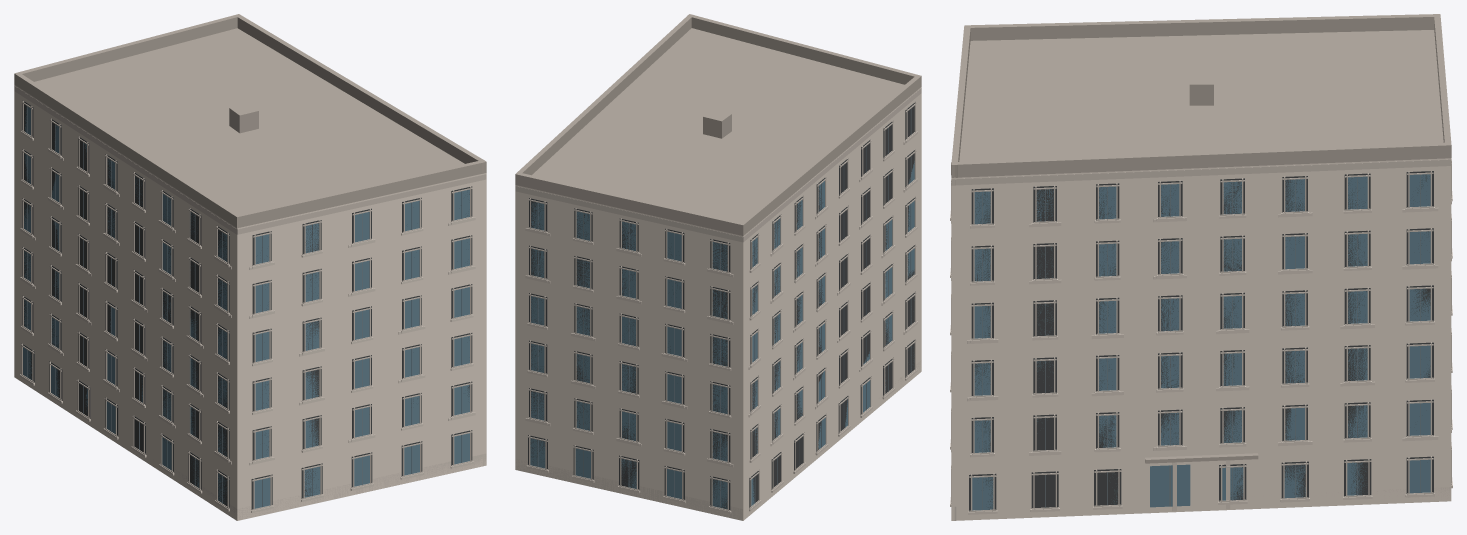
The model's file is cop_misto_loja_terrea_04__way_586695361.fbx.
3 views of the same model, side by side, from view 1: azimuth 30°, elevation 25°; view 2: azimuth 150°, elevation 25°; view 3: azimuth 270°, elevation 25° (orthographic). The views are drawn at different scales.
Visible parts, largest first — view 1: cop_misto_loja_terrea_04__way_586695361_wall, cop_misto_loja_terrea_04__way_586695361_roof, cop_misto_loja_terrea_04__way_586695361_glass, cop_misto_loja_terrea_04__way_586695361_shadow, cop_misto_loja_terrea_04__way_586695361_trim, cop_misto_loja_terrea_04__way_586695361_stone, cop_misto_loja_terrea_04__way_586695361_metal; view 2: cop_misto_loja_terrea_04__way_586695361_wall, cop_misto_loja_terrea_04__way_586695361_roof, cop_misto_loja_terrea_04__way_586695361_shadow, cop_misto_loja_terrea_04__way_586695361_glass, cop_misto_loja_terrea_04__way_586695361_trim, cop_misto_loja_terrea_04__way_586695361_stone, cop_misto_loja_terrea_04__way_586695361_metal; view 3: cop_misto_loja_terrea_04__way_586695361_wall, cop_misto_loja_terrea_04__way_586695361_roof, cop_misto_loja_terrea_04__way_586695361_glass, cop_misto_loja_terrea_04__way_586695361_shadow, cop_misto_loja_terrea_04__way_586695361_trim, cop_misto_loja_terrea_04__way_586695361_stone, cop_misto_loja_terrea_04__way_586695361_metal.
Part boxes in pixels (bbox=[...]): cop_misto_loja_terrea_04__way_586695361_wall: bbox=[14, 85, 486, 520]; cop_misto_loja_terrea_04__way_586695361_roof: bbox=[14, 14, 486, 228]; cop_misto_loja_terrea_04__way_586695361_glass: bbox=[23, 106, 469, 508]; cop_misto_loja_terrea_04__way_586695361_shadow: bbox=[21, 100, 472, 509]; cop_misto_loja_terrea_04__way_586695361_trim: bbox=[14, 86, 486, 510]; cop_misto_loja_terrea_04__way_586695361_stone: bbox=[20, 131, 486, 520]; cop_misto_loja_terrea_04__way_586695361_metal: bbox=[27, 106, 462, 507]; cop_misto_loja_terrea_04__way_586695361_wall: bbox=[515, 87, 921, 520]; cop_misto_loja_terrea_04__way_586695361_roof: bbox=[515, 14, 921, 235]; cop_misto_loja_terrea_04__way_586695361_shadow: bbox=[528, 102, 915, 509]; cop_misto_loja_terrea_04__way_586695361_glass: bbox=[530, 161, 914, 508]; cop_misto_loja_terrea_04__way_586695361_trim: bbox=[515, 88, 921, 511]; cop_misto_loja_terrea_04__way_586695361_stone: bbox=[515, 131, 921, 520]; cop_misto_loja_terrea_04__way_586695361_metal: bbox=[537, 109, 911, 507]; cop_misto_loja_terrea_04__way_586695361_wall: bbox=[951, 158, 1451, 520]; cop_misto_loja_terrea_04__way_586695361_roof: bbox=[951, 14, 1451, 463]; cop_misto_loja_terrea_04__way_586695361_glass: bbox=[972, 174, 1430, 510]; cop_misto_loja_terrea_04__way_586695361_shadow: bbox=[969, 171, 1433, 511]; cop_misto_loja_terrea_04__way_586695361_trim: bbox=[951, 158, 1451, 511]; cop_misto_loja_terrea_04__way_586695361_stone: bbox=[950, 191, 1452, 520]; cop_misto_loja_terrea_04__way_586695361_metal: bbox=[982, 174, 1420, 510].
Size of the model in its own units: 1706 by 1912 by 2391.
